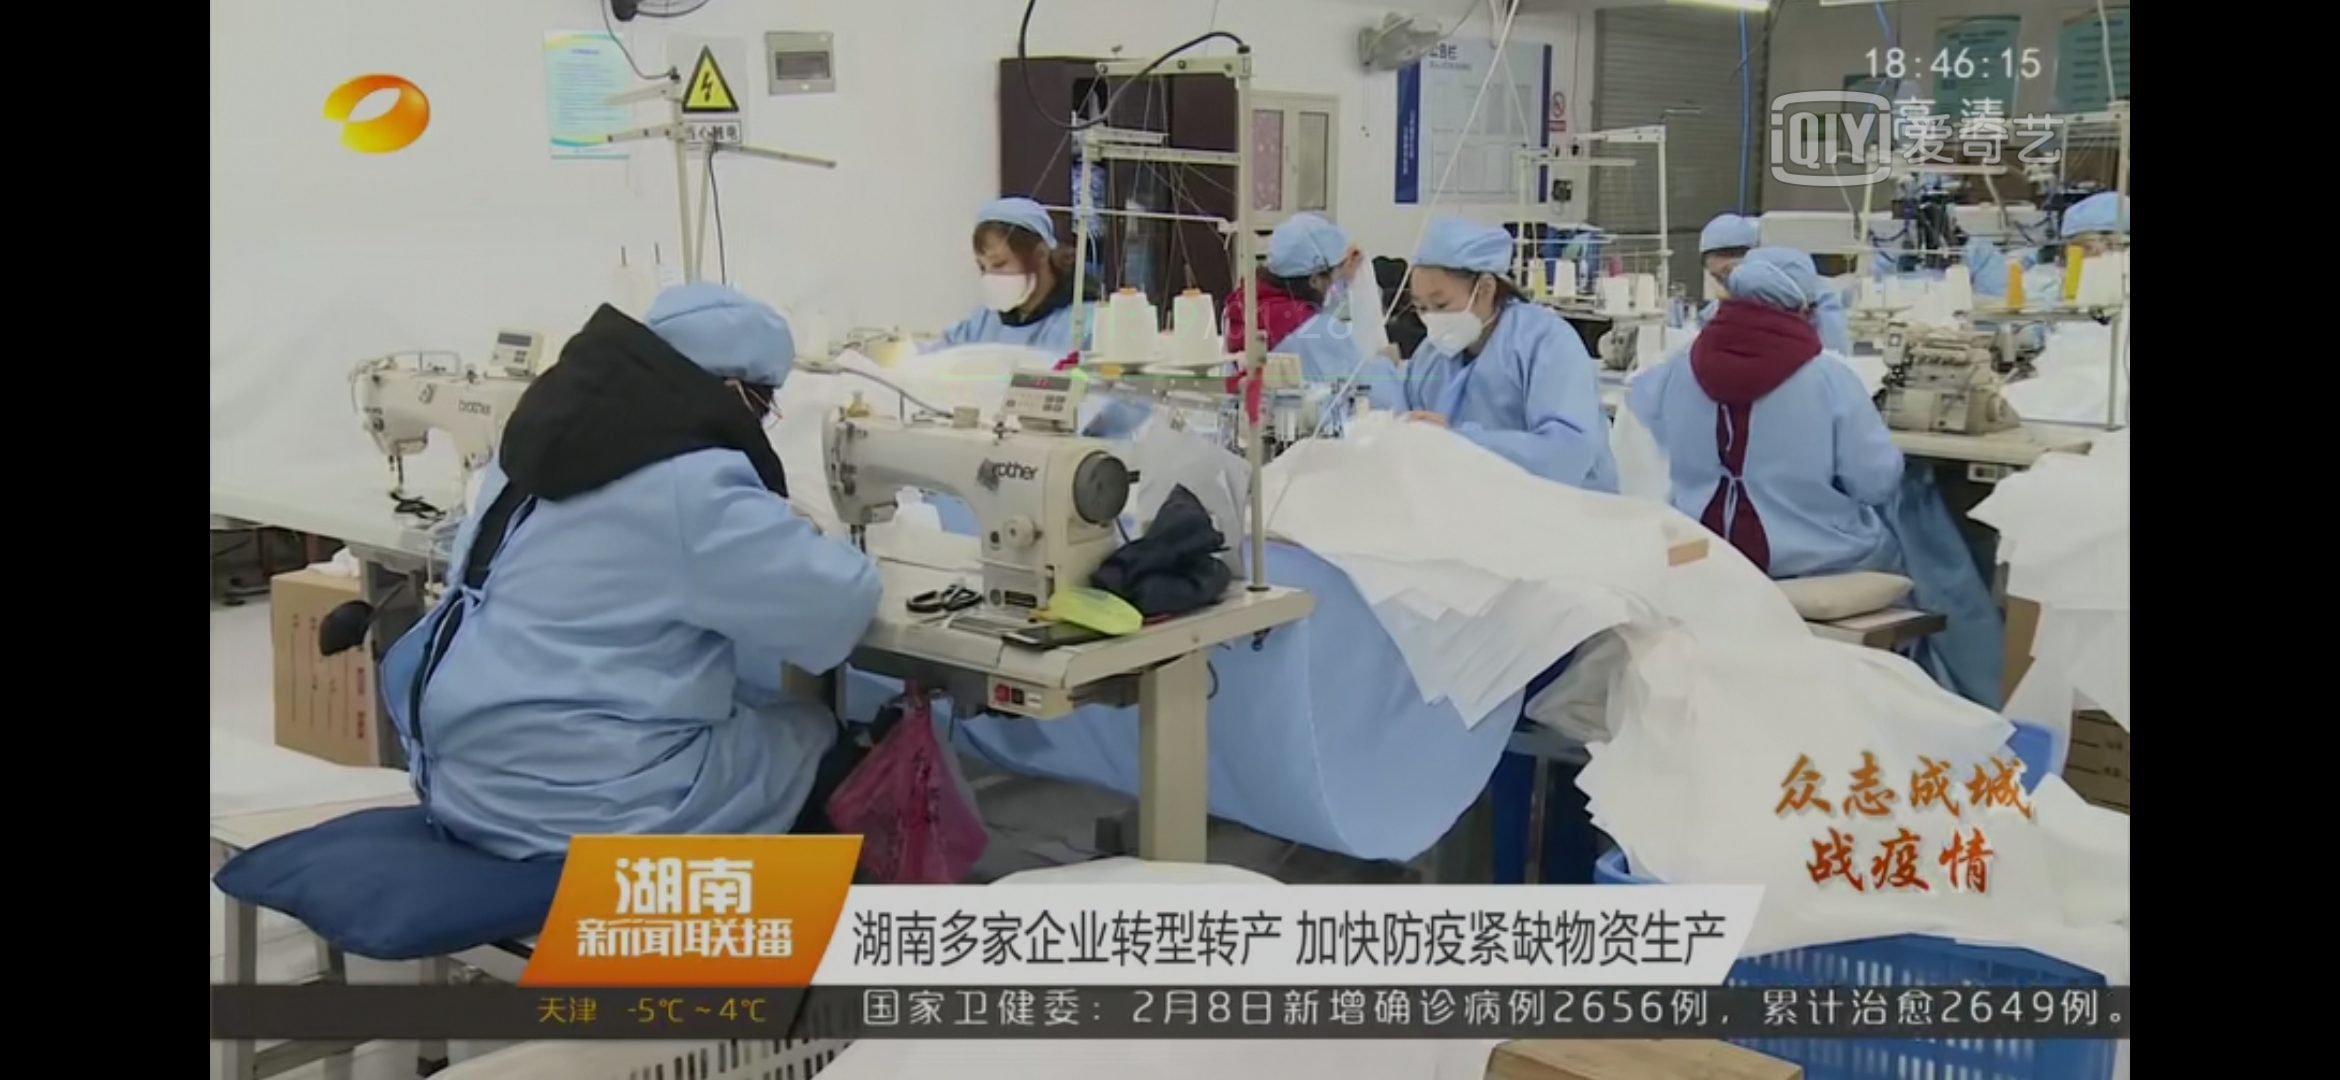correctlyWear: (1410, 269, 1501, 364), (975, 236, 1054, 319), (1307, 254, 1351, 312)
